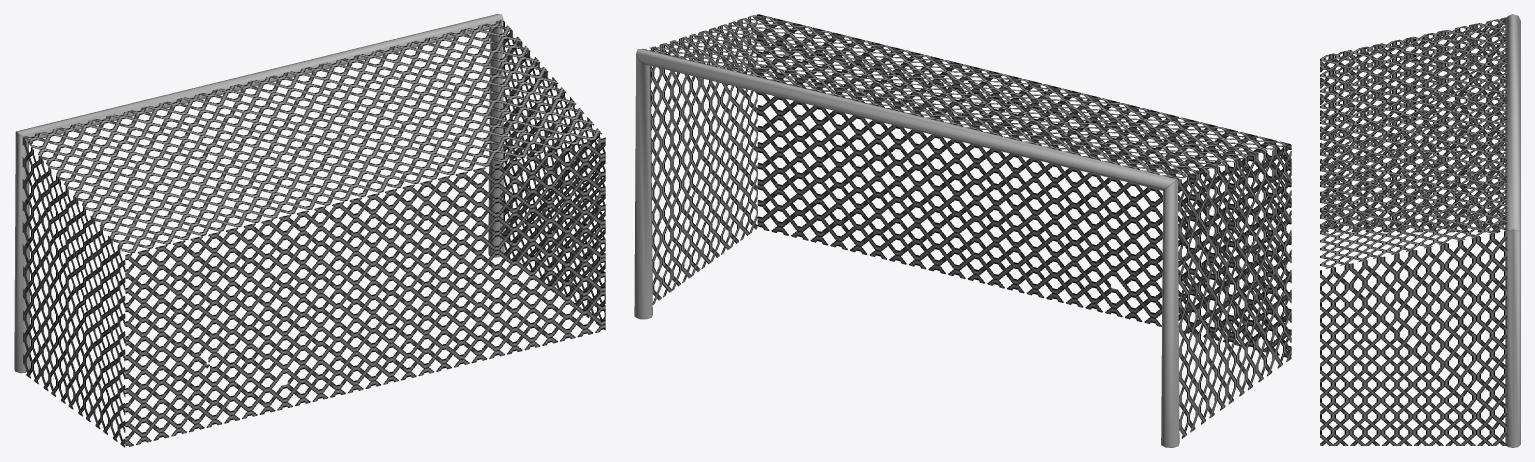
Rendered from Prop_Porteria.fbx.
3 views of the same model, side by side, from view 1: azimuth 30°, elevation 25°; view 2: azimuth 150°, elevation 25°; view 3: azimuth 270°, elevation 25° (orthographic). The views are drawn at different scales.
Visible parts, largest first — view 1: Cylinder.001; view 2: Cylinder.001; view 3: Cylinder.001.
Boxes of the visible parts, x1,y1,x2,y2 form: Cylinder.001: [14, 14, 605, 447]; Cylinder.001: [634, 14, 1291, 447]; Cylinder.001: [1320, 14, 1520, 447].
Bounding box in the file's own units: 5.49 × 2.56 × 2.14.
Materials: 1 (1 with a texture image).
